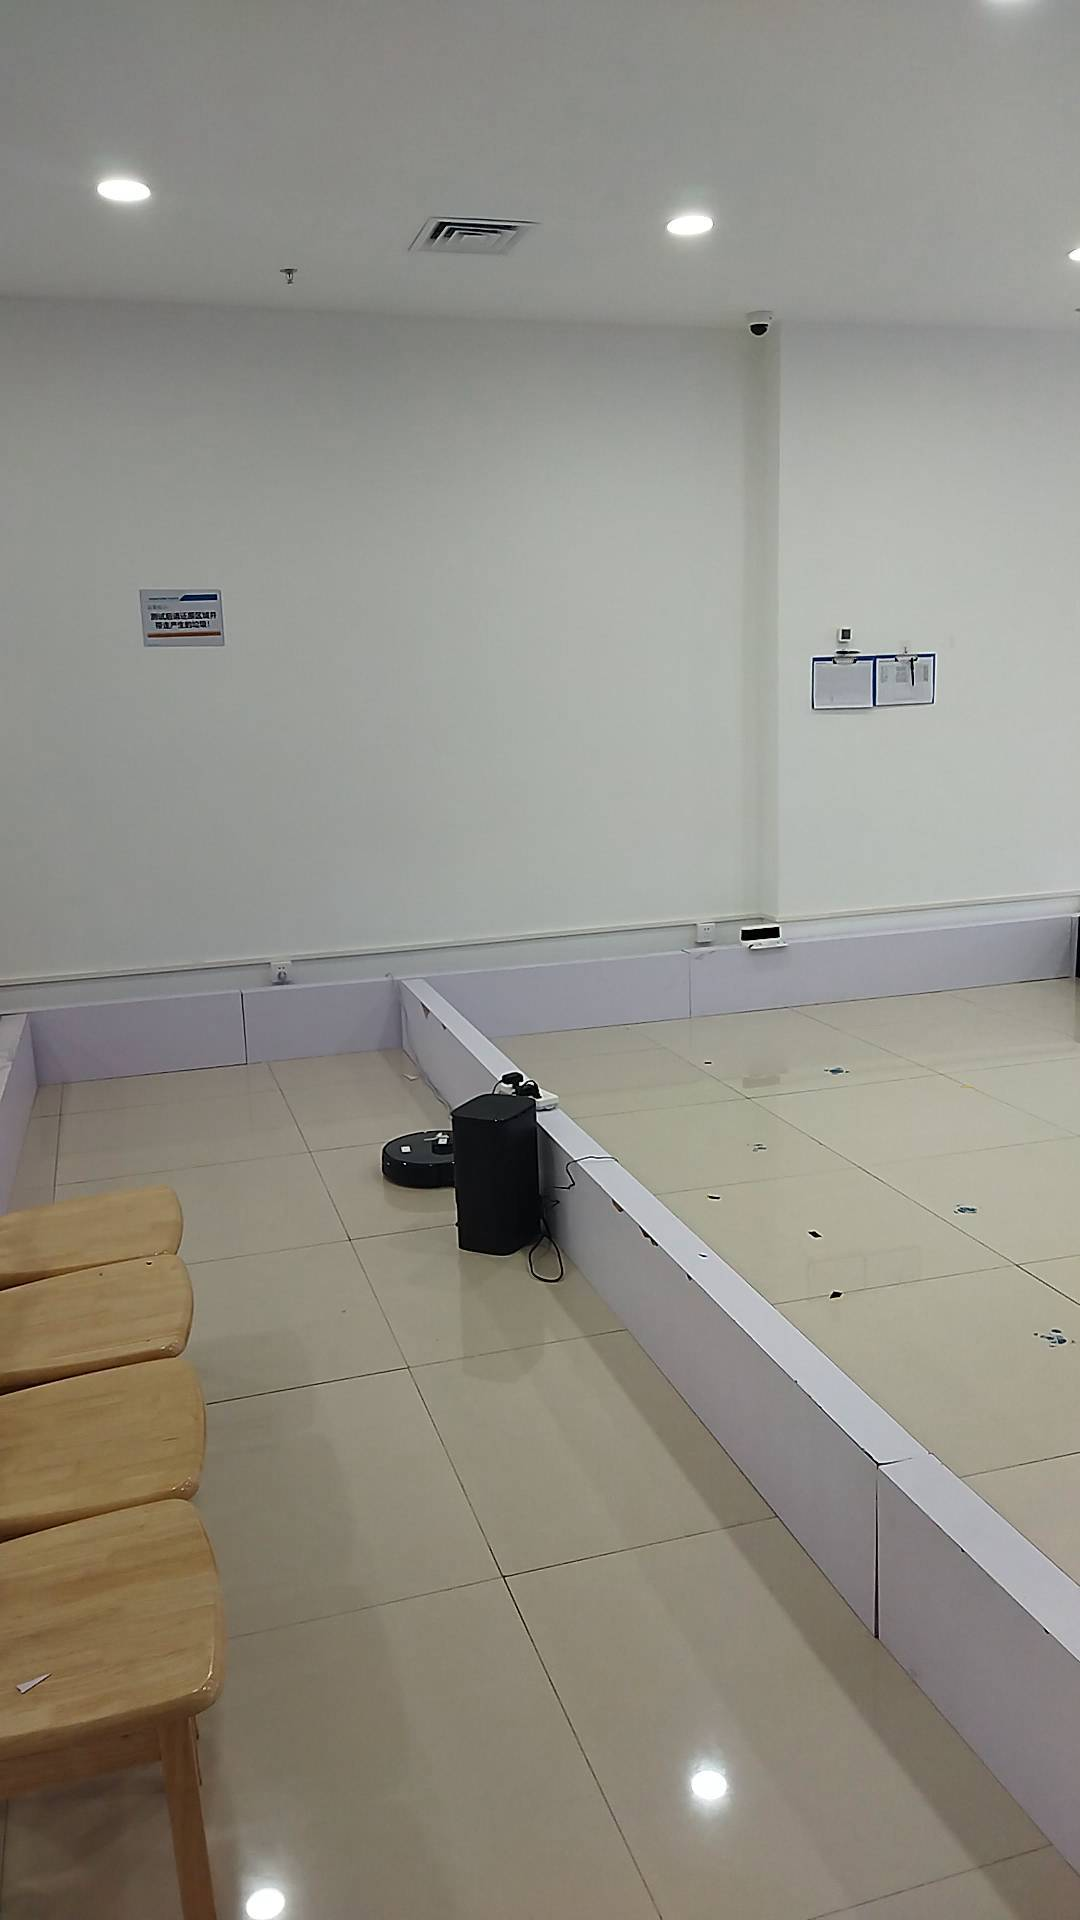dust collecting barrel: (448, 1091, 541, 1255)
recharge seat: (738, 922, 795, 952)
